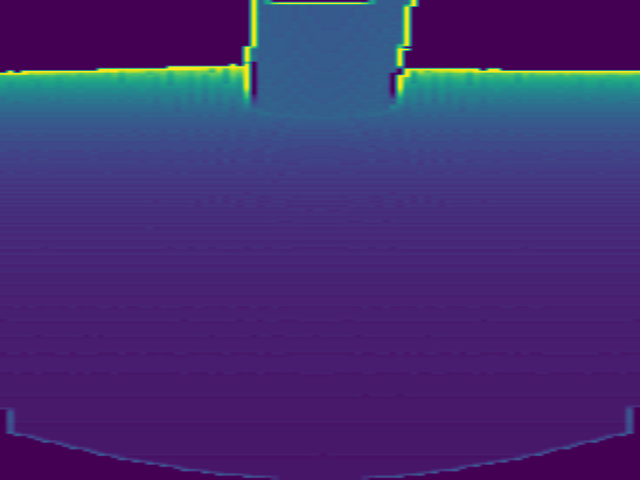cylinder: (241, 1, 416, 115)
